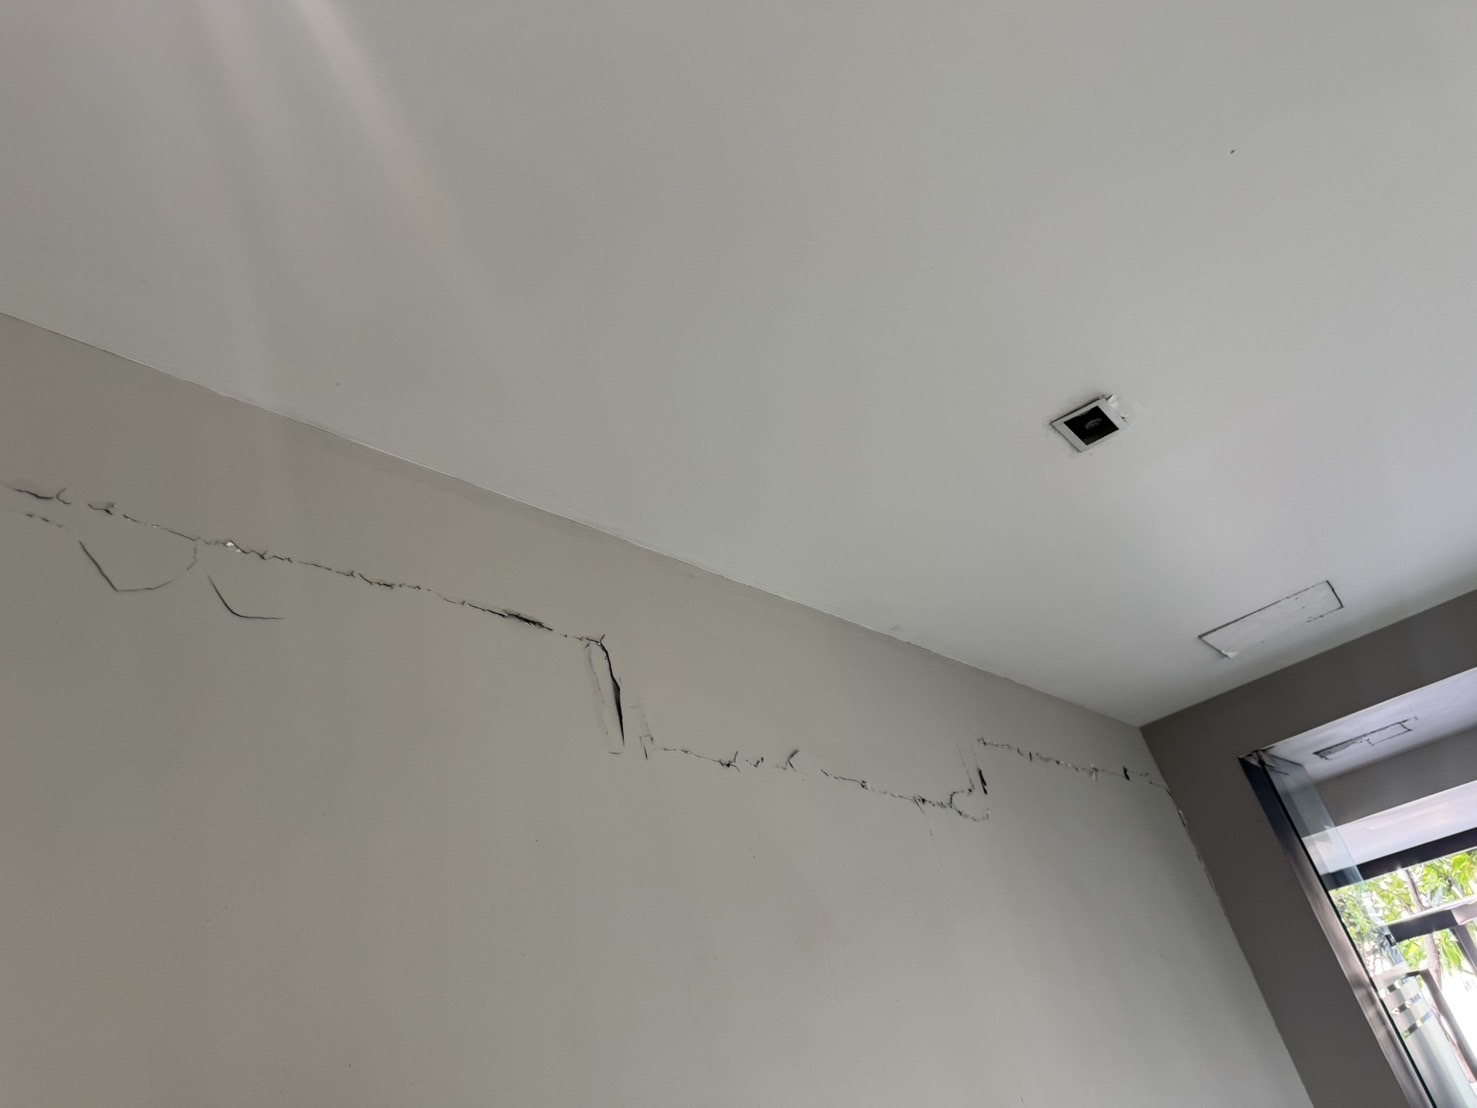Medium: (20, 450, 946, 871)
